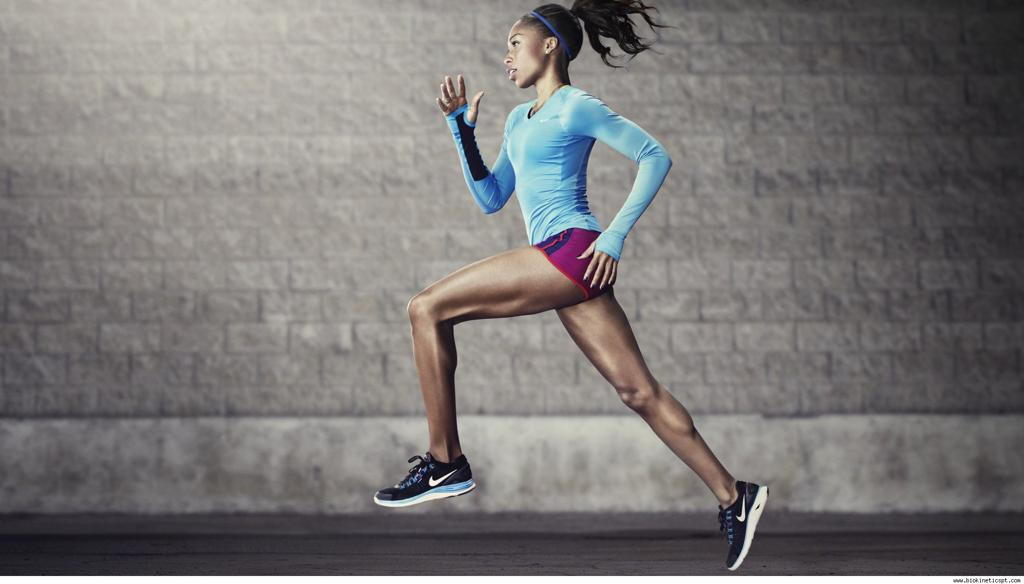face: (504, 19, 547, 87)
